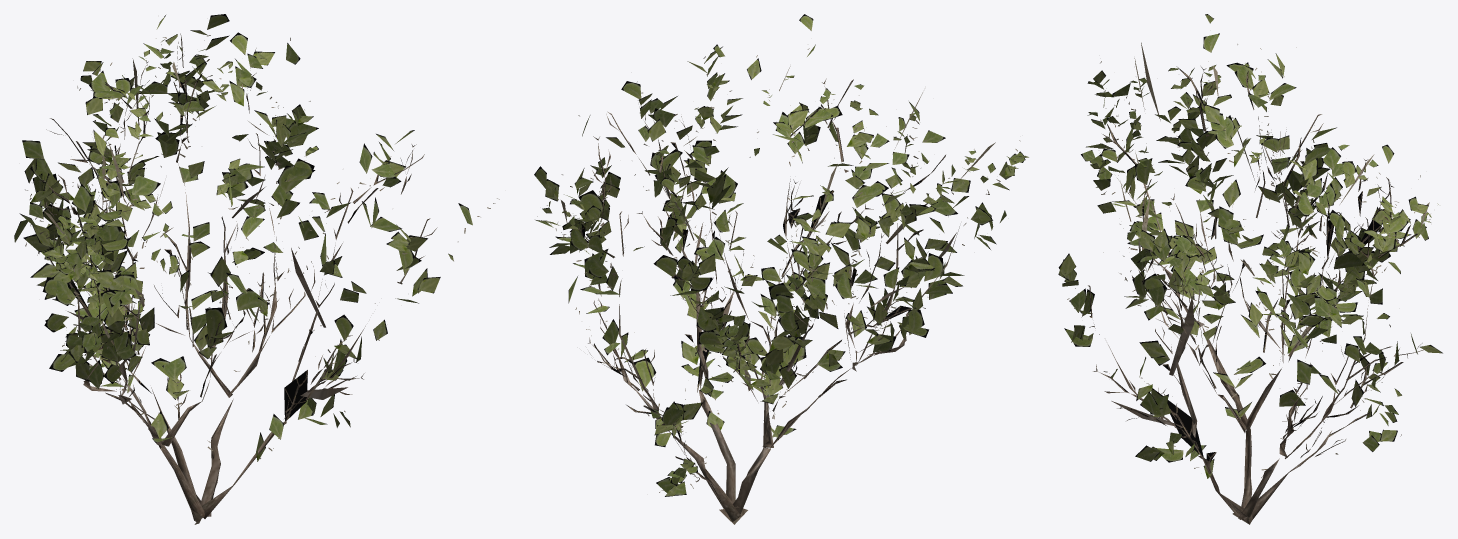
Rendered from chap_c.glb.
3 views of the same model, side by side, from view 1: azimuth 30°, elevation 25°; view 2: azimuth 150°, elevation 25°; view 3: azimuth 270°, elevation 25° (orthographic). The views are drawn at different scales.
Parts seen in each view (by area): view 1: Cube.068; view 2: Cube.068; view 3: Cube.068.
Boxes of the visible parts, x1,y1,x2,y2 form: Cube.068: [14, 14, 499, 524]; Cube.068: [534, 14, 1028, 524]; Cube.068: [1058, 14, 1442, 524].
Bounding box in the file's own units: 1.46 × 1.7 × 1.22.
3 materials, 3 textured.
